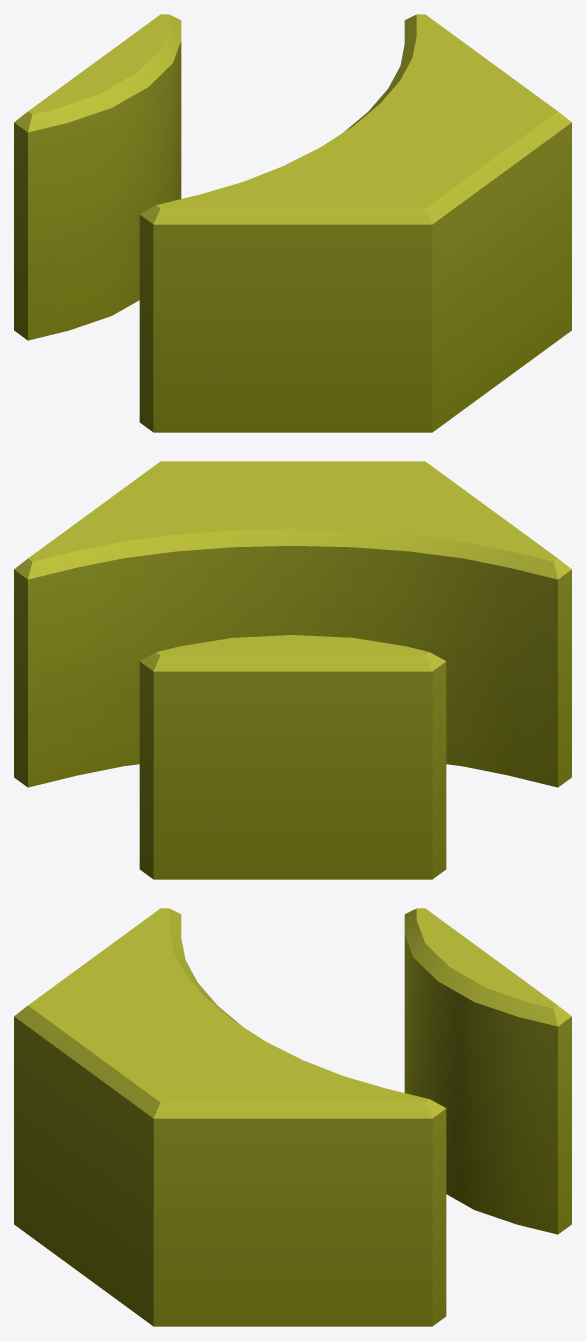
The model's file is kaykit-medieval-hexagon-pack-hex-river-b-waterless.glb.
3 views of the same model, one above another, from view 1: azimuth 30°, elevation 25°; view 2: azimuth 150°, elevation 25°; view 3: azimuth 270°, elevation 25° (orthographic).
Parts seen in each view (by area): view 1: hex_river_B_waterless; view 2: hex_river_B_waterless; view 3: hex_river_B_waterless.
Part boxes in pixels (box(x1,y1,x2,y2)): hex_river_B_waterless: box(14, 14, 571, 432); hex_river_B_waterless: box(14, 461, 571, 879); hex_river_B_waterless: box(14, 908, 571, 1326).
Size of the model in its own units: 2 by 1 by 2.31.
Materials: 1 (1 with a texture image).
